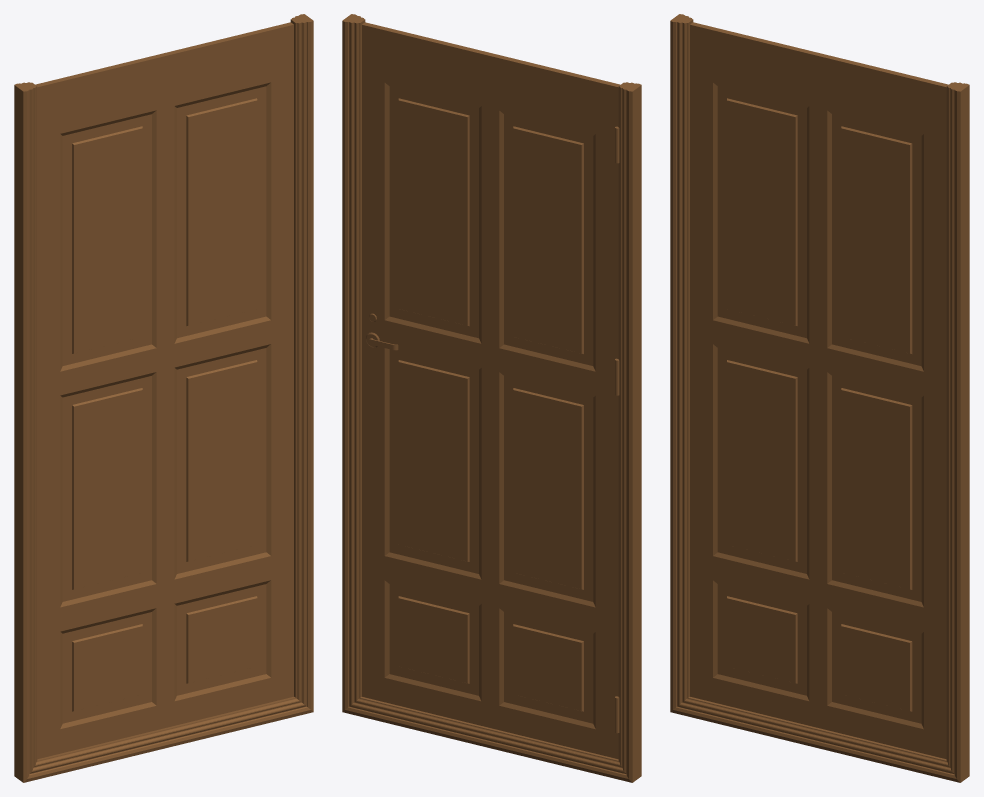
Rendered from door2.obj.
3 views of the same model, side by side, from view 1: azimuth 30°, elevation 25°; view 2: azimuth 150°, elevation 25°; view 3: azimuth 330°, elevation 25° (orthographic).
Parts seen in each view (by area): view 1: door2; view 2: door2; view 3: door2.
Part boxes in pixels (bbox=[...]): door2: bbox=[14, 14, 313, 782]; door2: bbox=[342, 14, 641, 782]; door2: bbox=[670, 14, 969, 782].
Size of the model in its own units: 0.879 by 2 by 0.0533.
